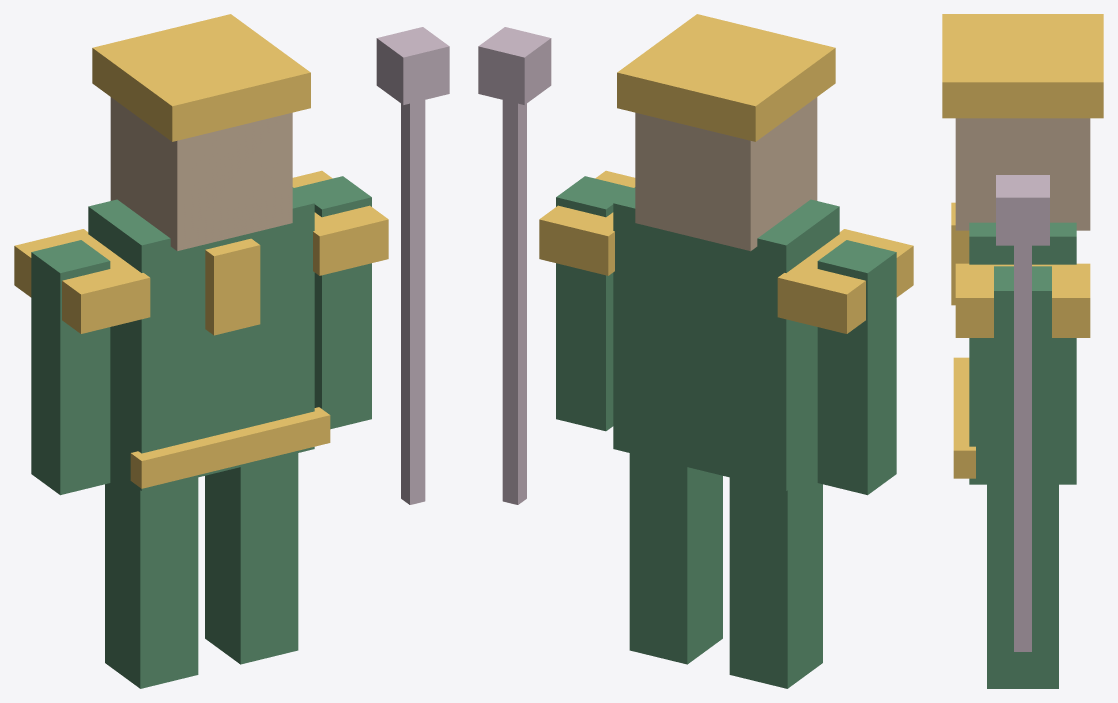
The model's file is 02_rook_runeclasp_custodian_at_hazard.glb.
3 renders of one model, left to right at view 1: azimuth 30°, elevation 25°; view 2: azimuth 150°, elevation 25°; view 3: azimuth 270°, elevation 25°, orthographic.
Visible parts, largest first — view 1: Rook Runeclasp, Custodian at Hazard; view 2: Rook Runeclasp, Custodian at Hazard; view 3: Rook Runeclasp, Custodian at Hazard.
Boxes of the visible parts, bbox=[...] form: Rook Runeclasp, Custodian at Hazard: bbox=[14, 14, 449, 688]; Rook Runeclasp, Custodian at Hazard: bbox=[478, 14, 913, 688]; Rook Runeclasp, Custodian at Hazard: bbox=[942, 14, 1103, 688].
Bounding box in the file's own units: 1 × 1.47 × 0.3562.
